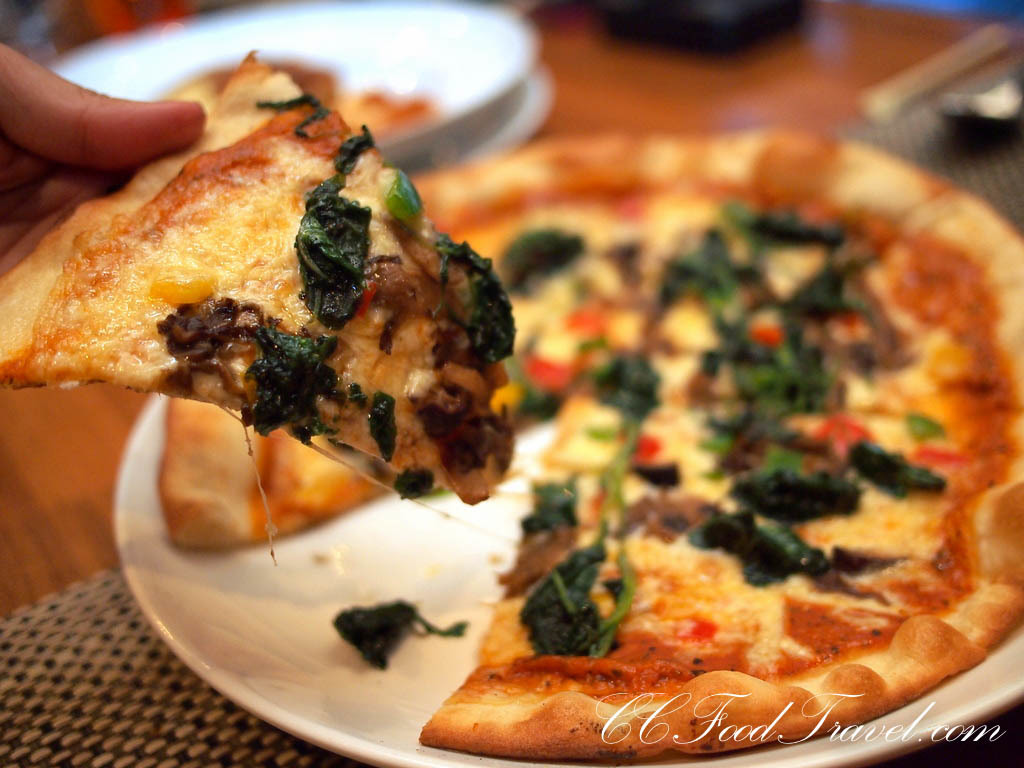Pizza: (112, 70, 1024, 740), (0, 46, 512, 505)
